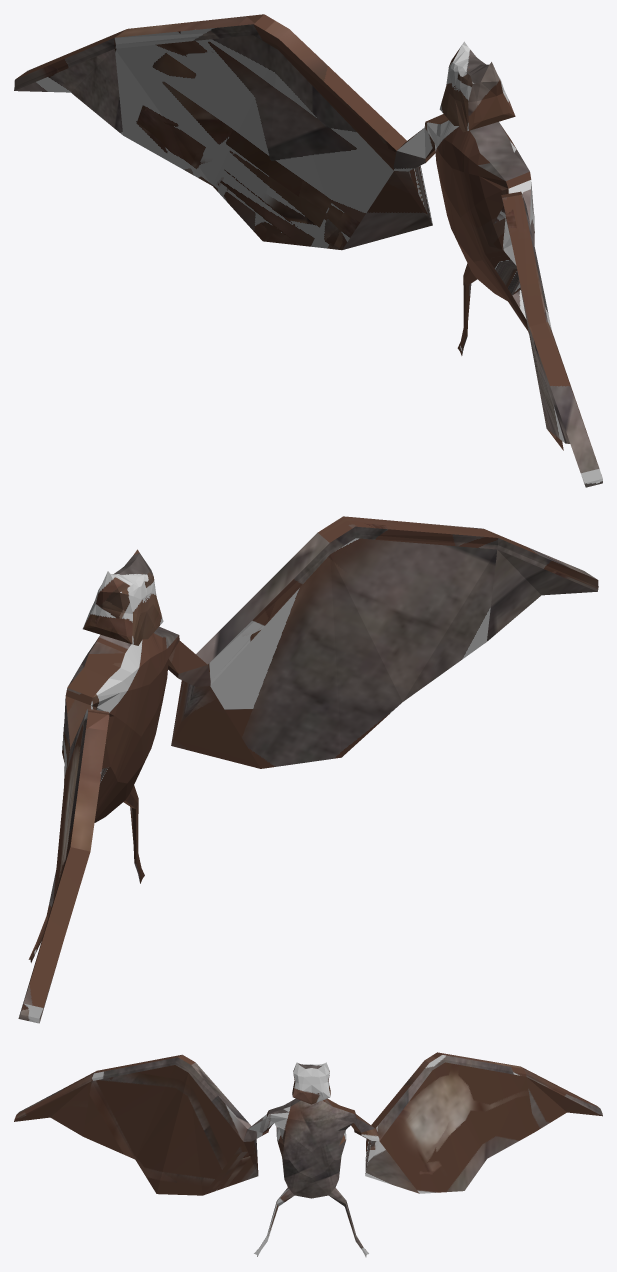
The model's file is Enemigo15.obj.
The picture shows the model from 3 angles, top to bottom: view 1: azimuth 30°, elevation 25°; view 2: azimuth 150°, elevation 25°; view 3: azimuth 270°, elevation 25°; orthographic projection. The views are drawn at different scales.
Visible parts, largest first — view 1: Plano; view 2: Plano; view 3: Plano.
Part boxes in pixels (x1,y1,x2,y2): Plano: (14, 14, 602, 487); Plano: (18, 516, 598, 1023); Plano: (14, 1052, 602, 1256).
Size of the model in its own units: 0.5192 by 0.7558 by 2.16.
1 material, 1 textured.
